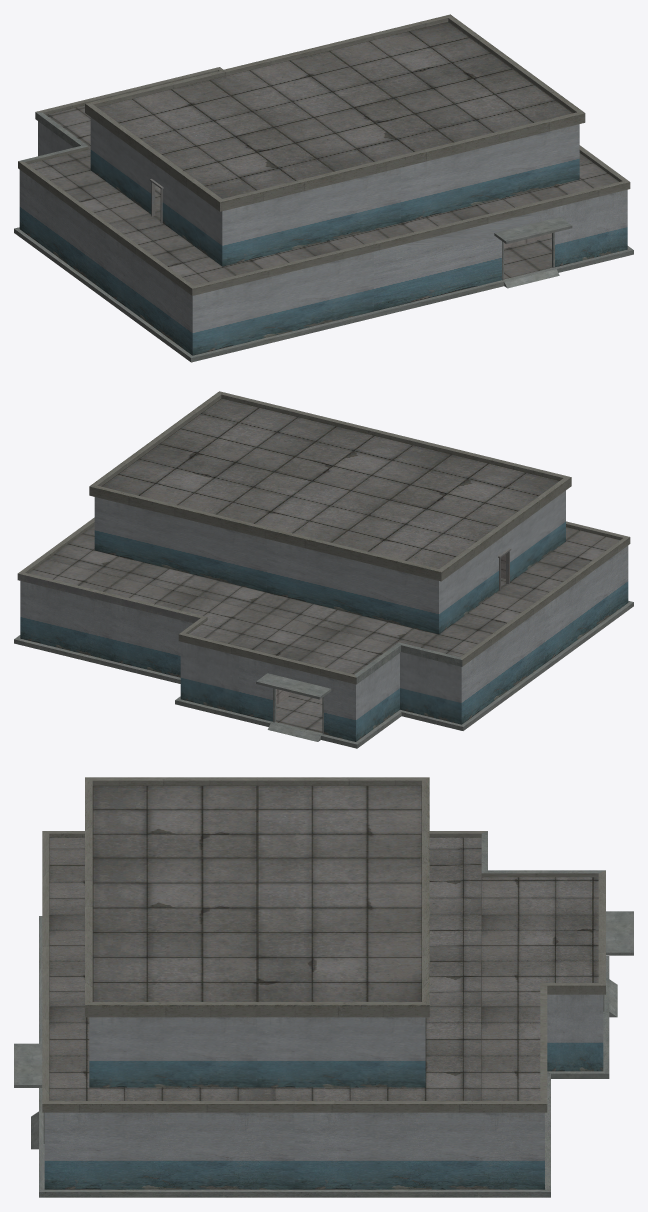
The model's file is Building_Yjs1_lod2.glb.
3 views of the same model, one above another, from view 1: azimuth 30°, elevation 25°; view 2: azimuth 150°, elevation 25°; view 3: azimuth 270°, elevation 25° (orthographic). The views are drawn at different scales.
Parts seen in each view (by area): view 1: xiutz_yjs1_lod2; view 2: xiutz_yjs1_lod2; view 3: xiutz_yjs1_lod2.
Part boxes in pixels (left/top/right/bottom): xiutz_yjs1_lod2: left=14, top=14, right=633, bottom=362; xiutz_yjs1_lod2: left=14, top=391, right=633, bottom=748; xiutz_yjs1_lod2: left=14, top=777, right=633, bottom=1197.
Bounding box in the file's own units: 43.35 × 12.69 × 41.14.
1 material, 1 textured.
